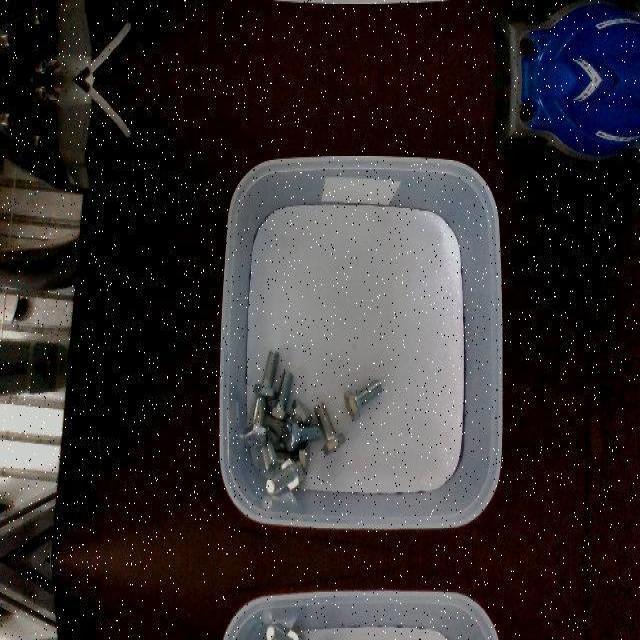screw: (314, 401, 345, 455), (343, 377, 382, 419), (265, 455, 303, 493), (283, 416, 322, 450), (253, 349, 279, 399), (244, 396, 268, 446), (268, 370, 292, 420), (265, 625, 303, 639)
